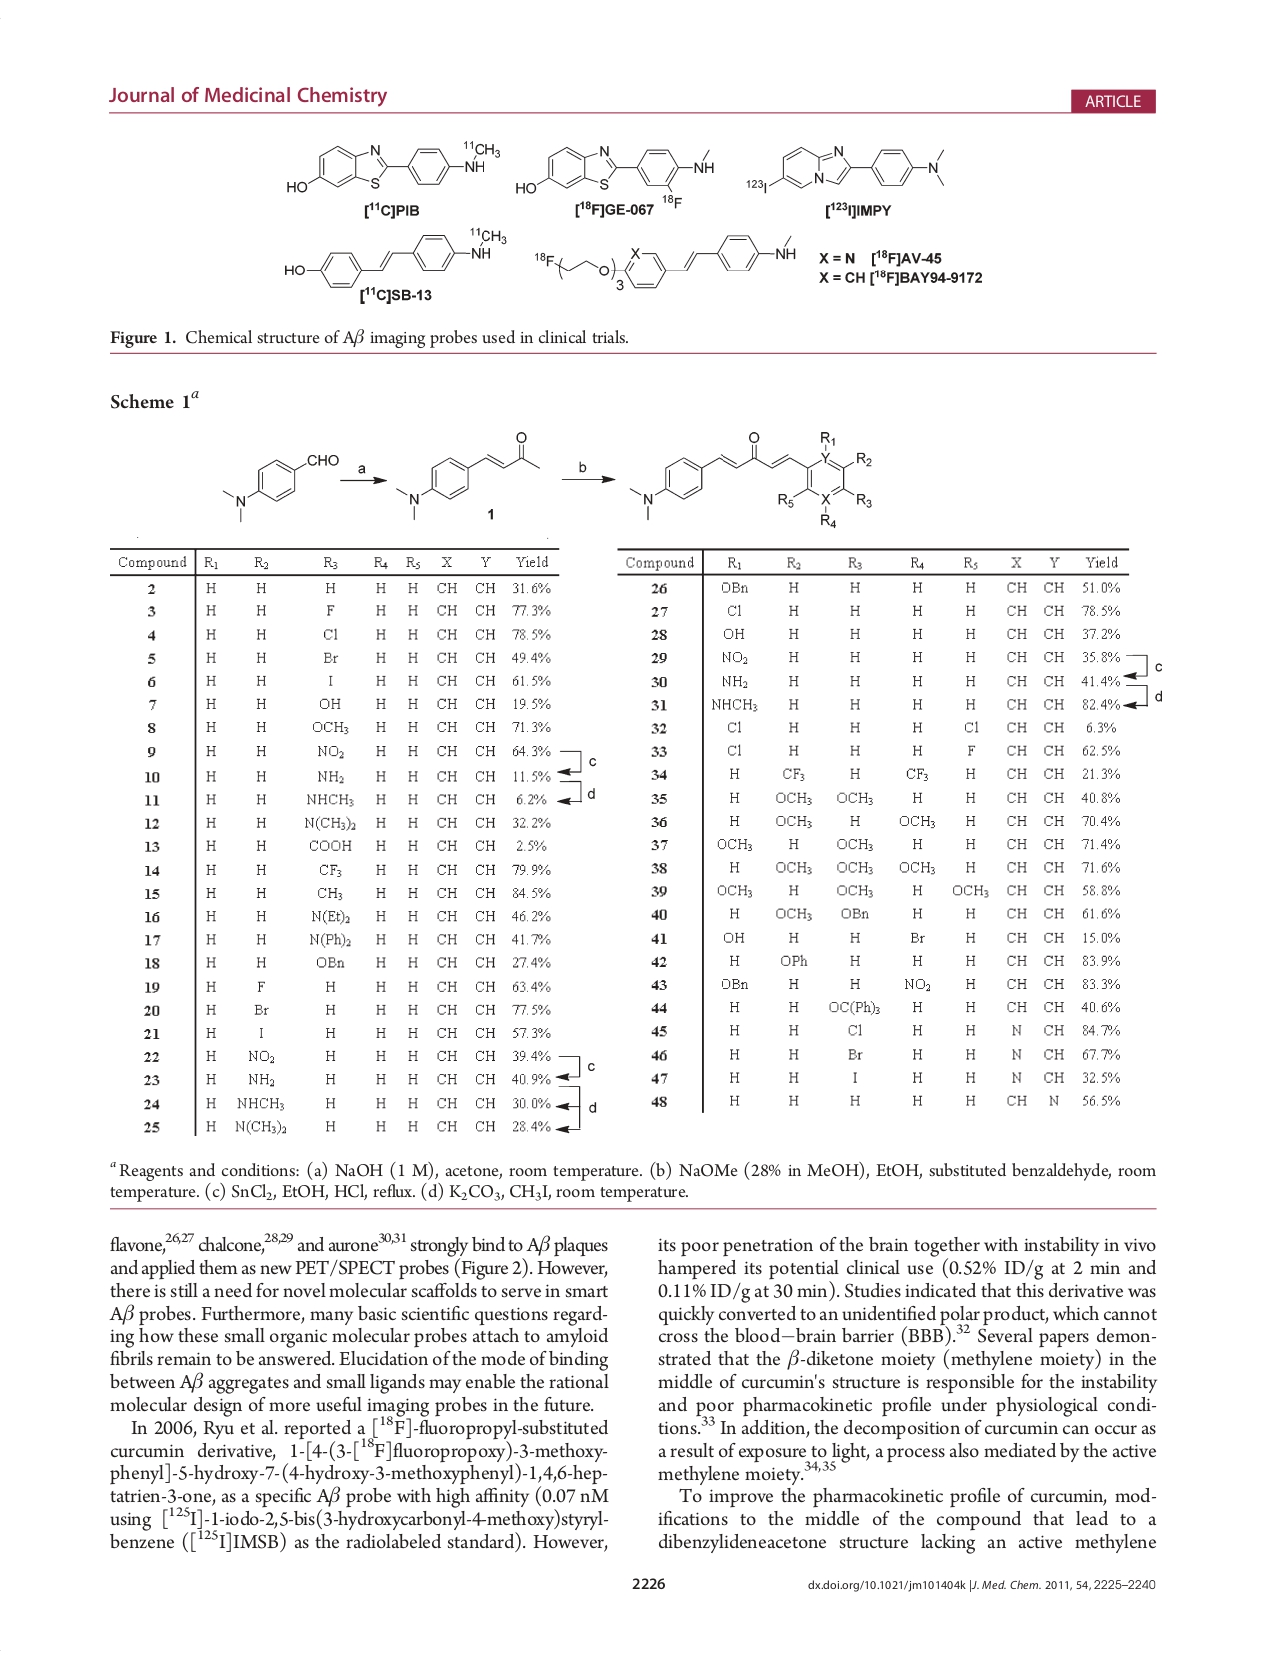exist_molecular: (625, 428, 876, 535), (531, 229, 799, 294), (279, 223, 508, 290), (513, 140, 715, 210), (392, 430, 543, 524), (285, 138, 501, 197), (745, 141, 952, 195), (218, 449, 340, 523)
